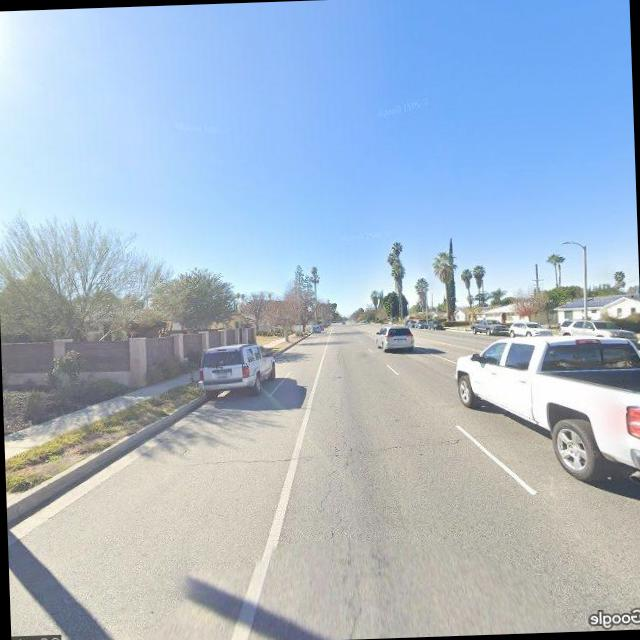crack: (182, 422, 481, 470), (312, 414, 374, 538)
